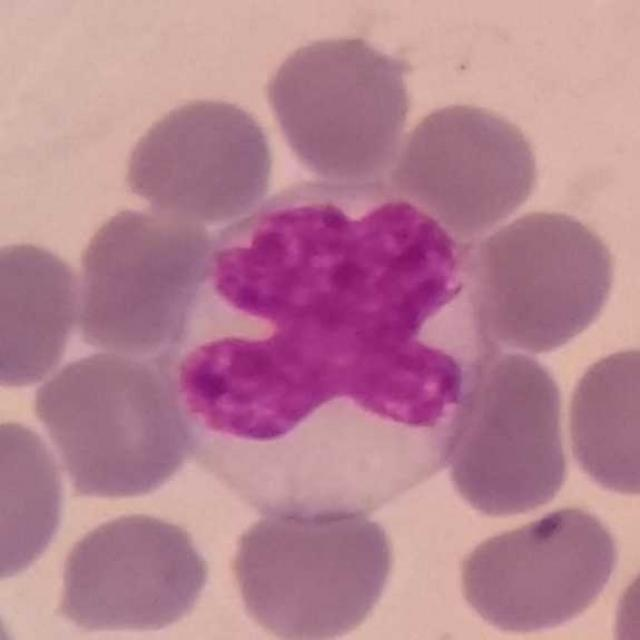Monocyte: (178, 186, 496, 530)
RBC: (29, 345, 197, 505), (224, 495, 400, 640), (438, 346, 576, 523), (262, 28, 418, 182), (452, 501, 623, 639), (466, 204, 621, 355), (67, 200, 215, 358), (50, 506, 216, 638), (118, 90, 279, 224), (390, 96, 544, 230), (0, 234, 87, 394), (558, 339, 640, 501), (0, 413, 71, 588), (605, 543, 640, 640)
